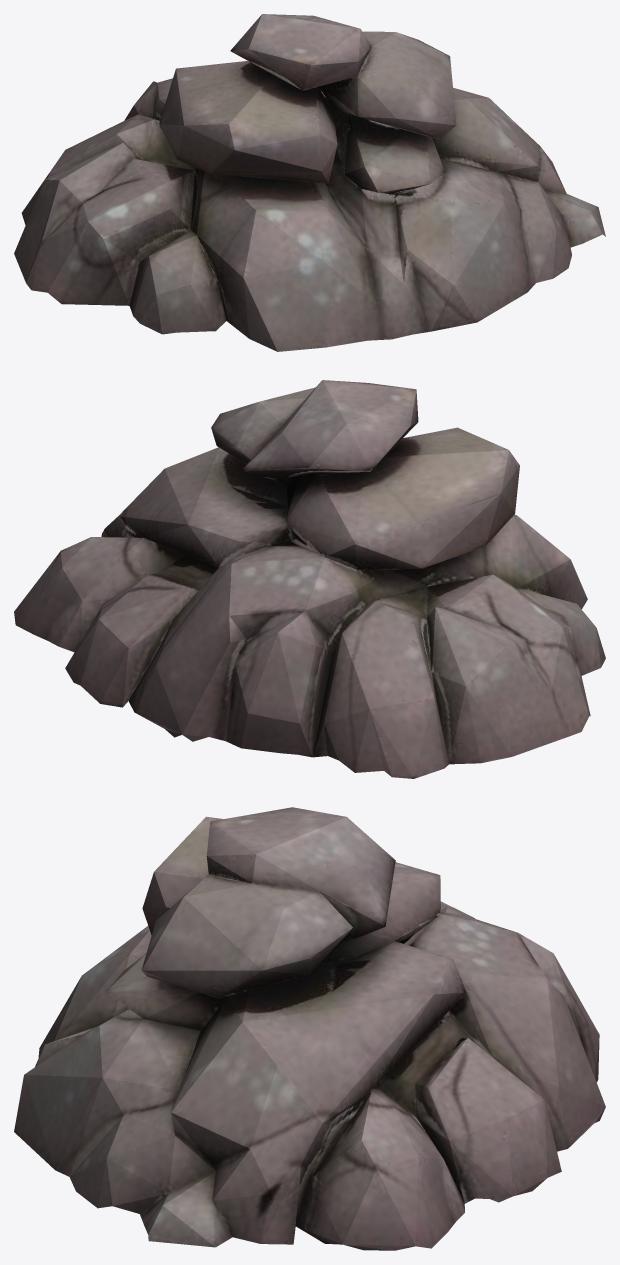
Rendered from granite_chaos_lod0.glb.
3 views of the same model, one above another, from view 1: azimuth 30°, elevation 25°; view 2: azimuth 150°, elevation 25°; view 3: azimuth 270°, elevation 25° (orthographic). The views are drawn at different scales.
Parts seen in each view (by area): view 1: granite_chaos_lod0; view 2: granite_chaos_lod0; view 3: granite_chaos_lod0.
Part boxes in pixels (<box>): granite_chaos_lod0: <box>14,14,605,351</box>; granite_chaos_lod0: <box>14,380,605,778</box>; granite_chaos_lod0: <box>14,807,605,1250</box>.
Size of the model in its own units: 1 by 0.4337 by 0.8488.
Materials: 1 (1 with a texture image).
